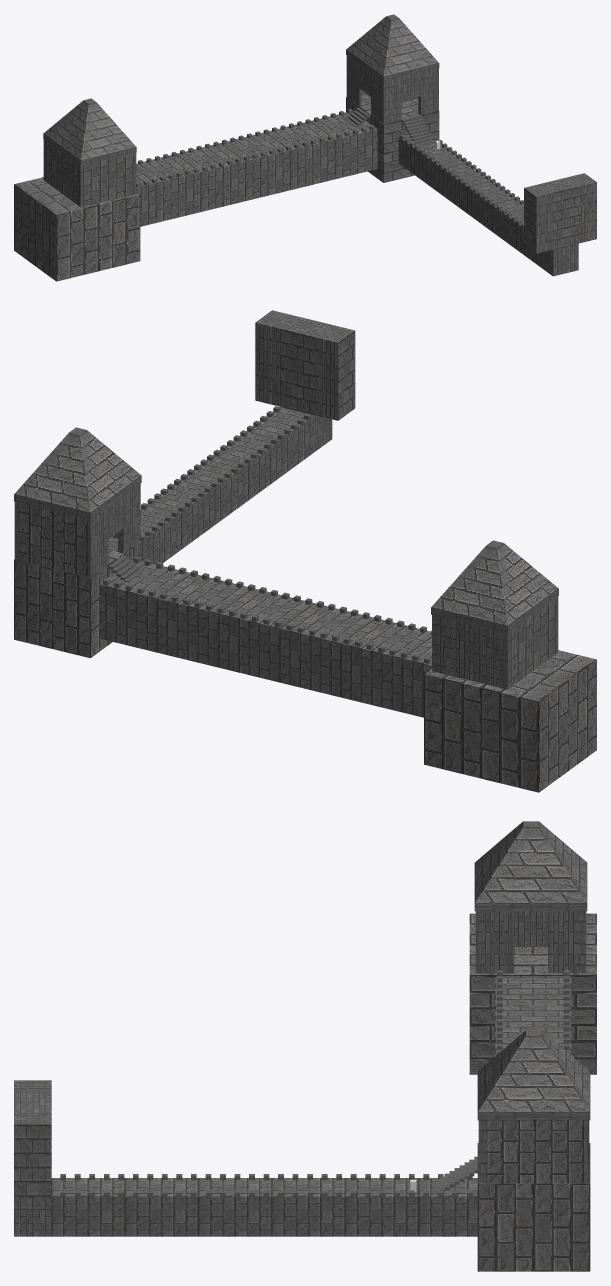
Rendered from danica_level_2.glb.
The picture shows the model from 3 angles, top to bottom: view 1: azimuth 30°, elevation 25°; view 2: azimuth 150°, elevation 25°; view 3: azimuth 270°, elevation 25°; orthographic projection. The views are drawn at different scales.
Parts seen in each view (by area): view 1: Cube.001, Cube.004, Cube.005, Cube.002, Cube.006, Cube.003; view 2: Cube.001, Cube.005, Cube.004, Cube.002, Cube.003; view 3: Cube.001, Cube.003, Cube.002, Cube.006.
Part boxes in pixels (box(x1,y1,x2,y2)): Cube.001: box(14, 14, 596, 281); Cube.004: box(136, 125, 374, 187); Cube.005: box(138, 109, 352, 164); Cube.002: box(400, 134, 523, 228); Cube.006: box(402, 115, 435, 145); Cube.003: box(430, 133, 523, 204); Cube.001: box(14, 310, 596, 792); Cube.005: box(103, 578, 430, 663); Cube.004: box(133, 556, 431, 634); Cube.002: box(140, 413, 311, 542); Cube.003: box(140, 406, 280, 512); Cube.001: box(14, 821, 596, 1271); Cube.003: box(60, 1190, 472, 1198); Cube.002: box(60, 1174, 472, 1180); Cube.006: box(434, 1156, 477, 1194).
Size of the model in its own units: 457 by 181 by 395.
1 material, 1 textured.
